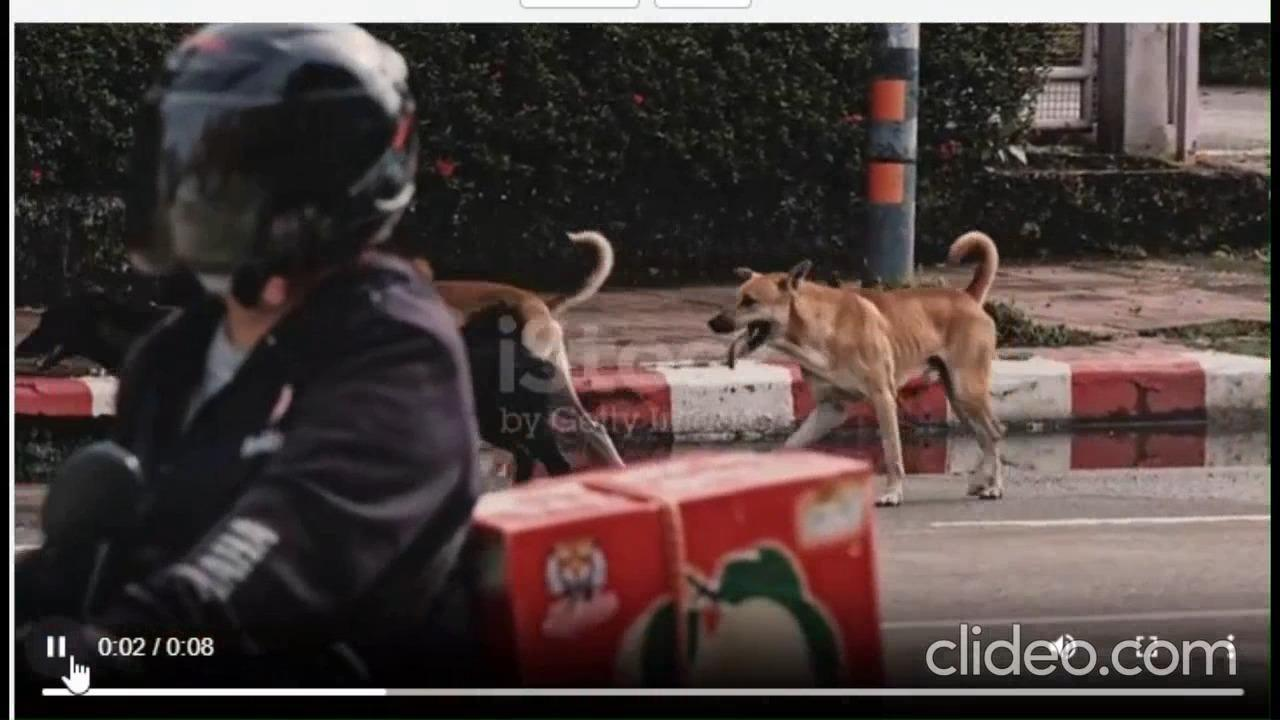dog: (716, 225, 1011, 508), (20, 274, 143, 380)
